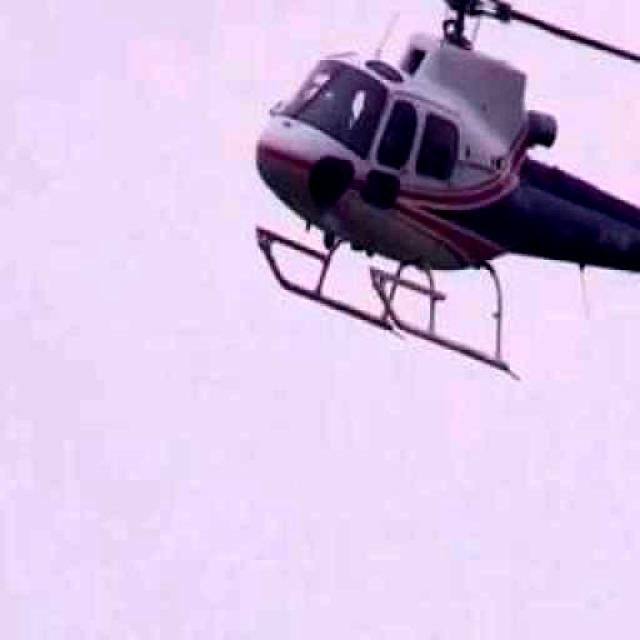drone: (125, 0, 640, 438)
